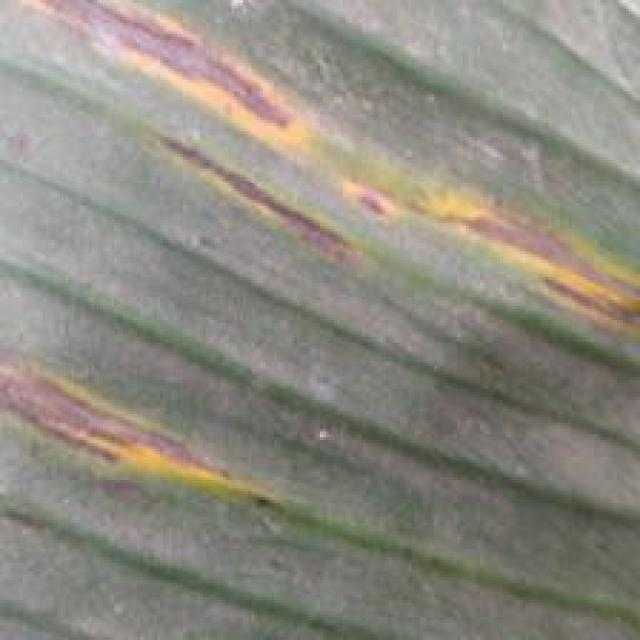Early_leaf_spot: (321, 147, 640, 325), (0, 328, 286, 508), (0, 0, 303, 148), (150, 111, 355, 262)
